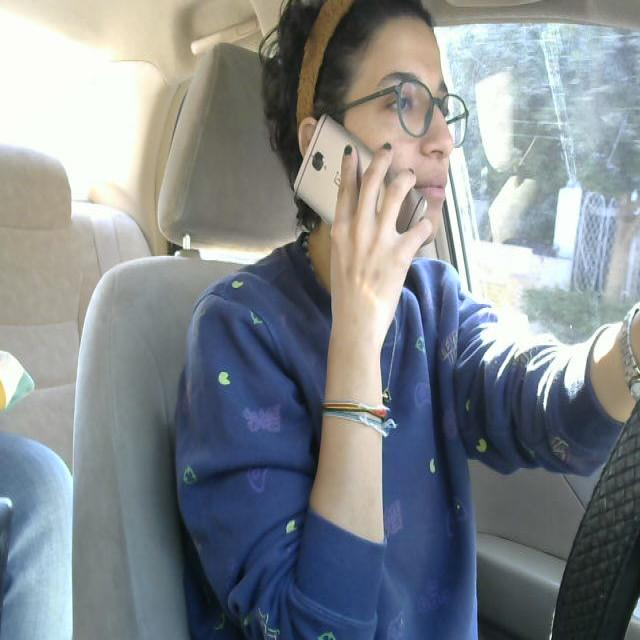mobile use: (283, 104, 435, 271)
